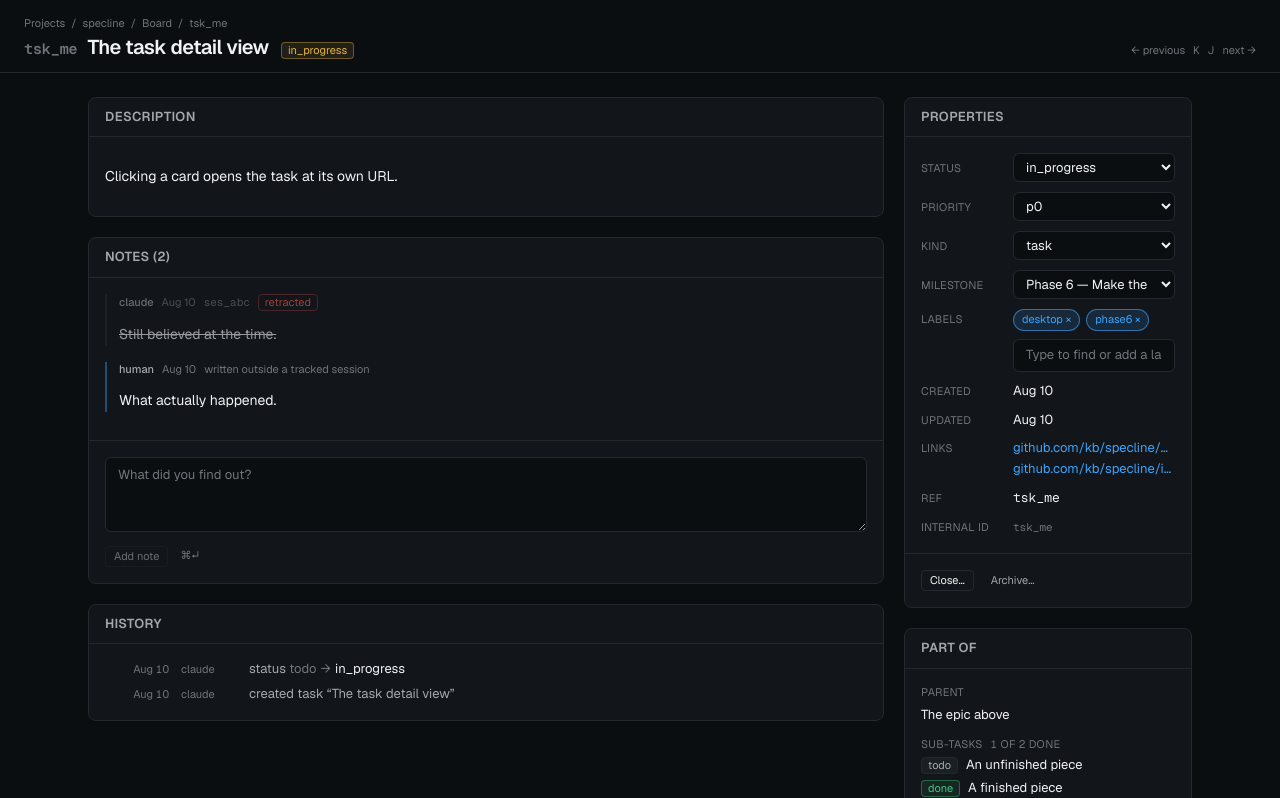
Test: changing the fields a person moves › says the row moved when the version is stale
Select "bug" in the dropdown named "Kind". click: (1094, 246)
box: [1013, 232, 1175, 260]
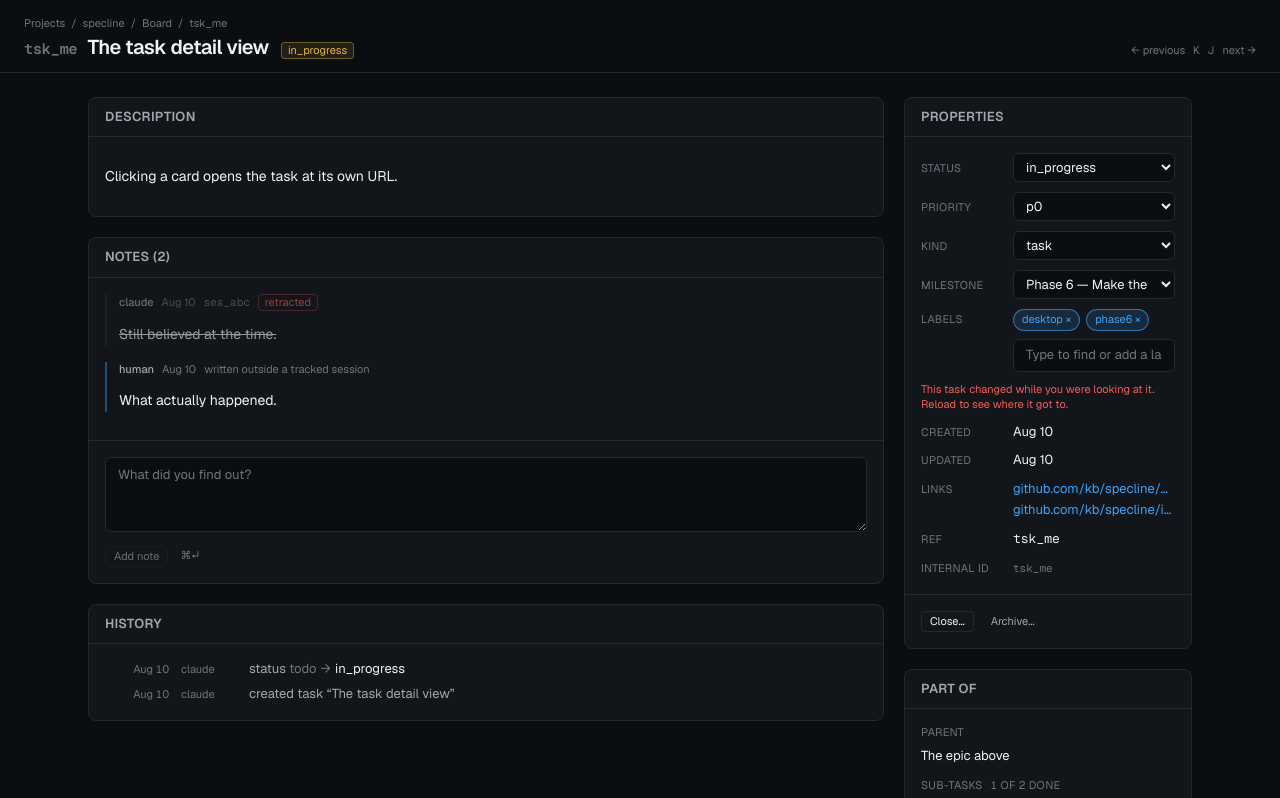
Now the message shows "changed while you were looking at it", box [921, 382, 1154, 411]
